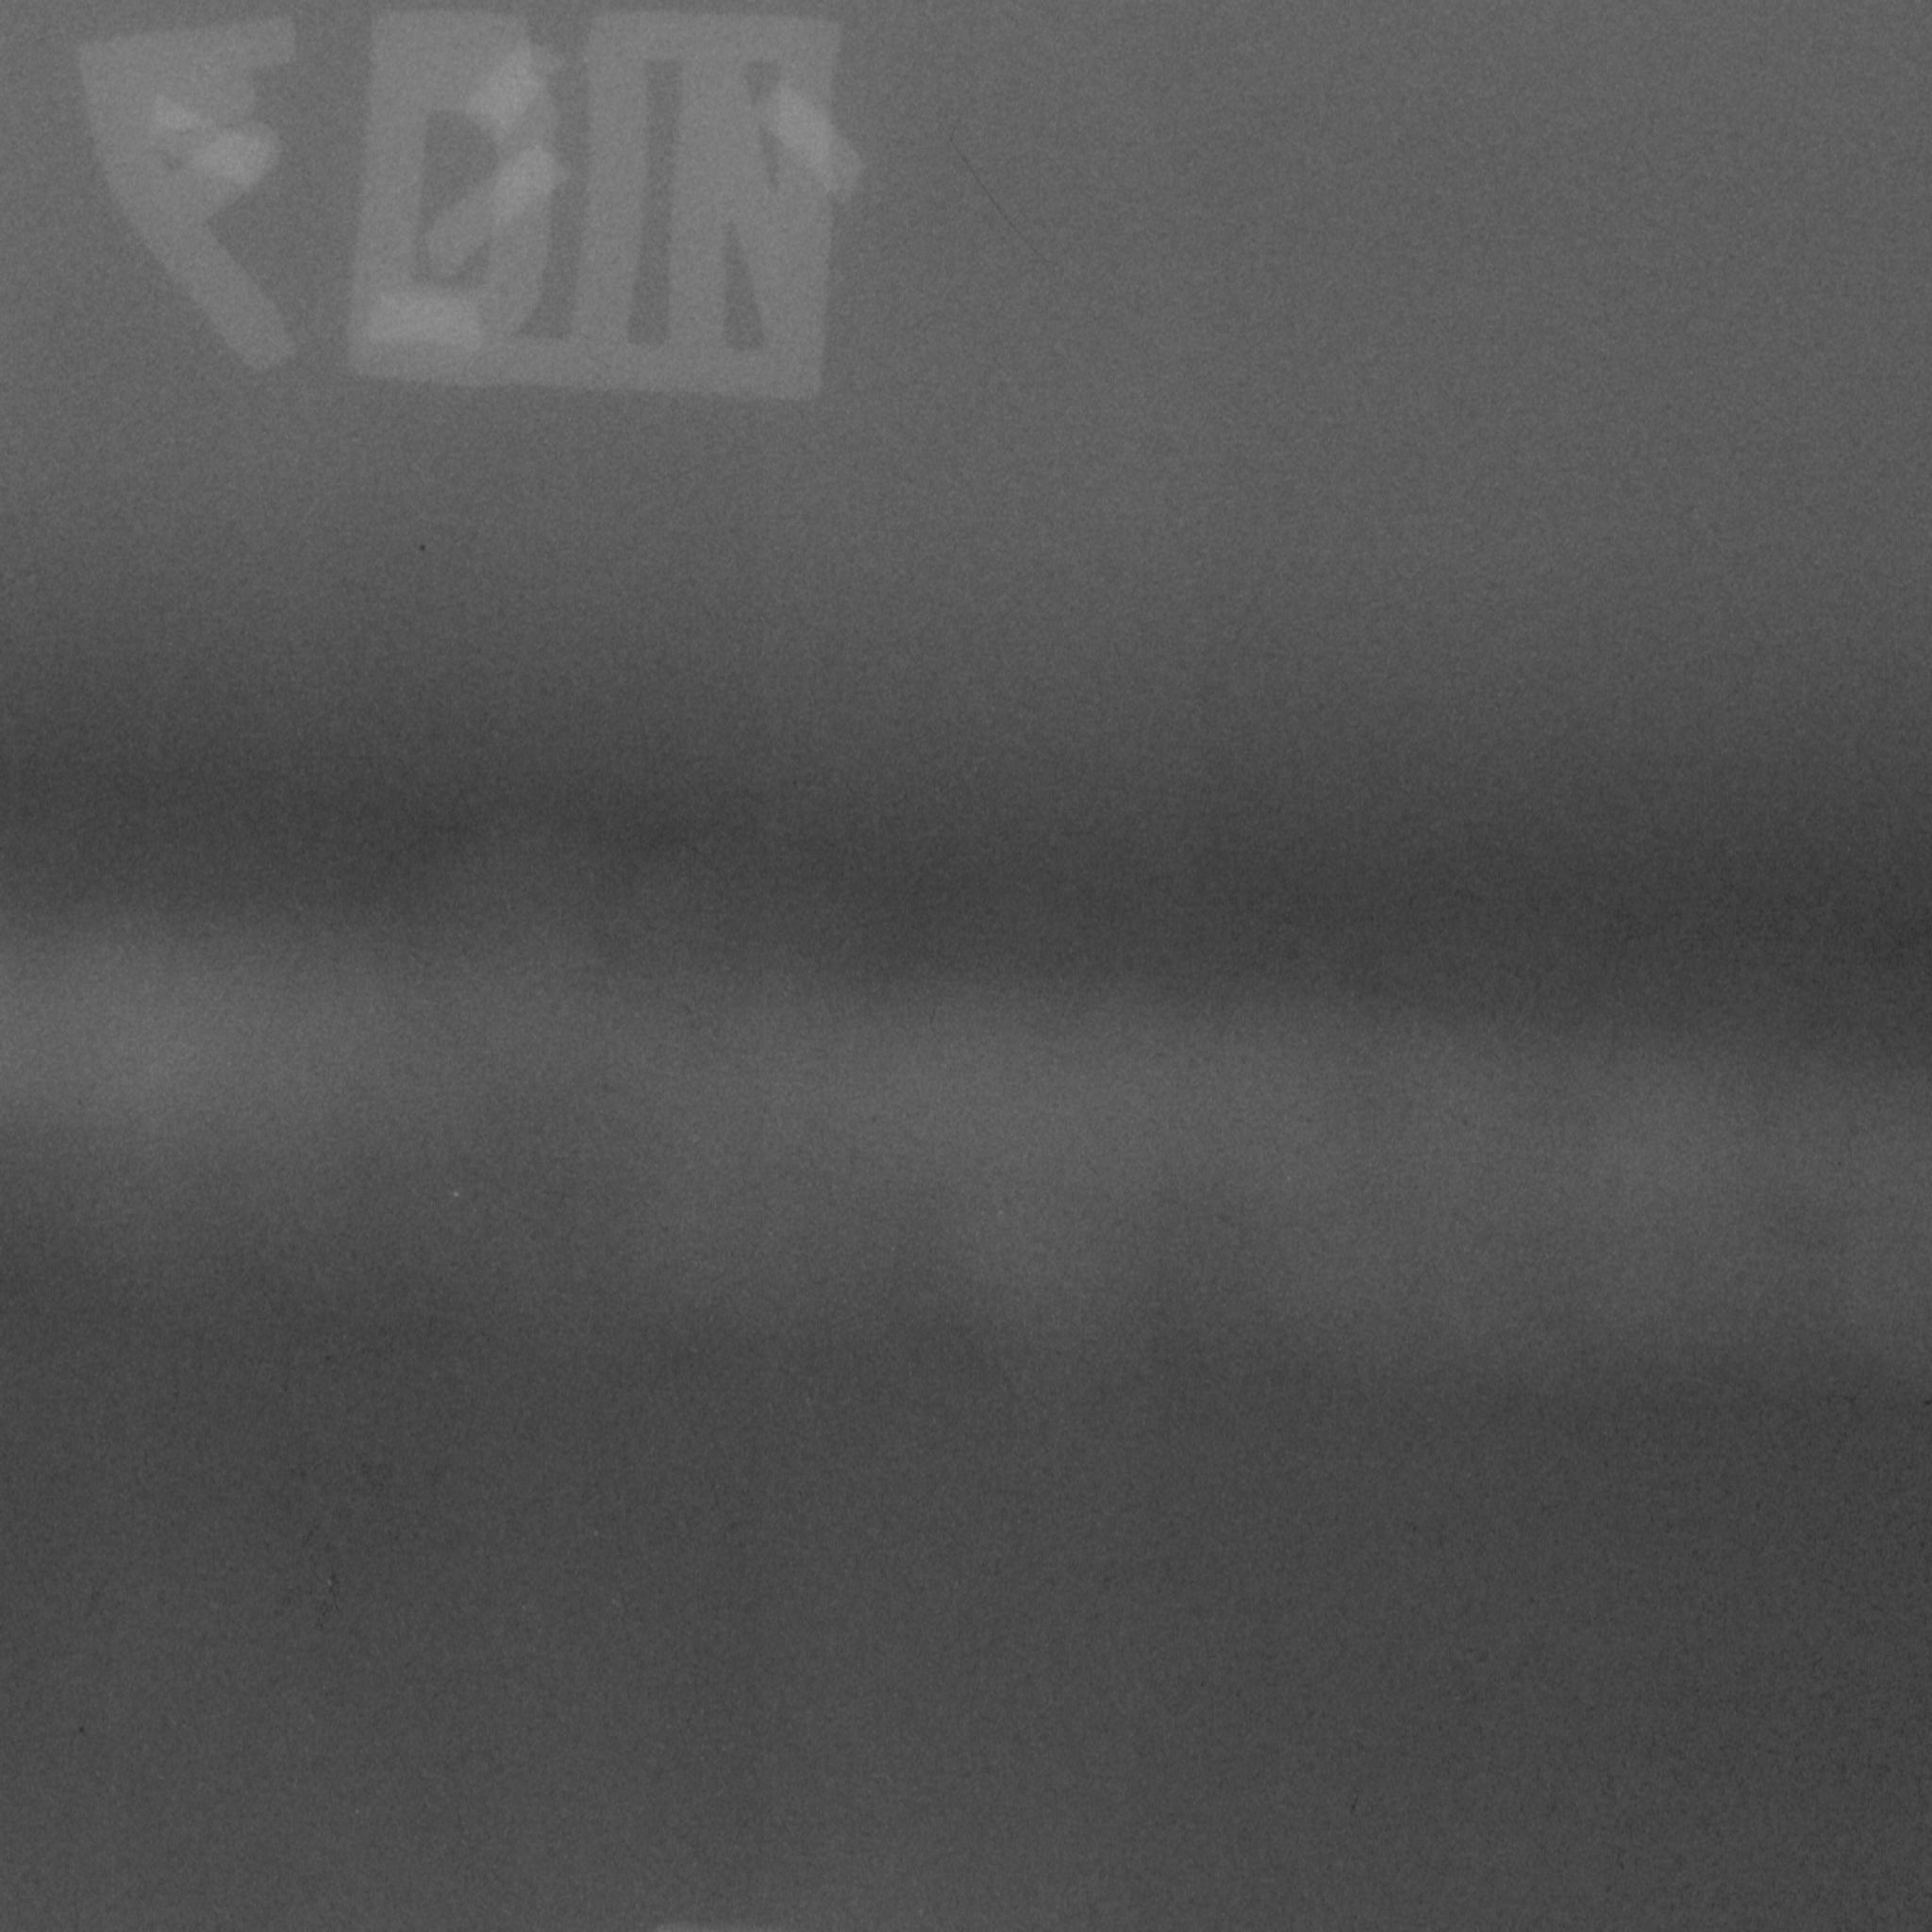PO: (410, 534, 433, 561), (1913, 1389, 1932, 1415), (73, 1721, 94, 1739), (322, 1352, 336, 1364)
Solda Ruim: (287, 1509, 386, 1661)
